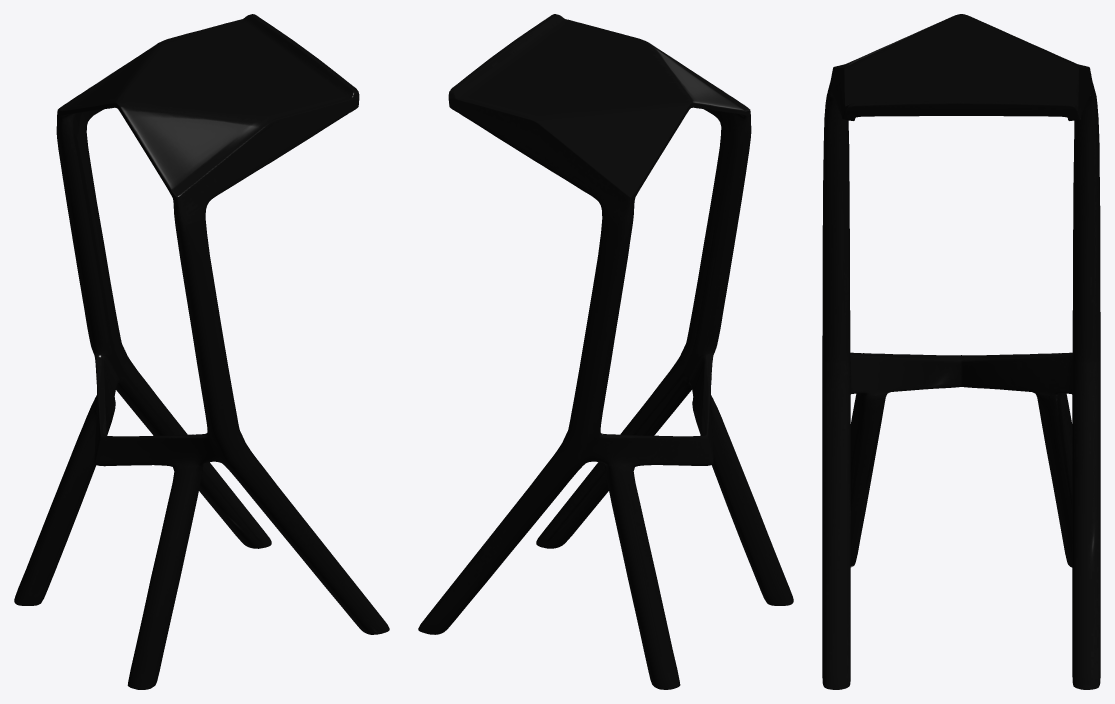
Rendered from miura_bar_black_polypropylene.glb.
3 views of the same model, side by side, from view 1: azimuth 30°, elevation 25°; view 2: azimuth 150°, elevation 25°; view 3: azimuth 270°, elevation 25° (orthographic). The views are drawn at different scales.
Visible parts, largest first — view 1: miura-black; view 2: miura-black; view 3: miura-black.
Boxes of the visible parts, x1,y1,x2,y2 form: miura-black: [14, 14, 389, 689]; miura-black: [418, 14, 793, 689]; miura-black: [822, 14, 1100, 689].
Bounding box in the file's own units: 0.3966 × 0.7983 × 0.3502.
1 material, 1 textured.
